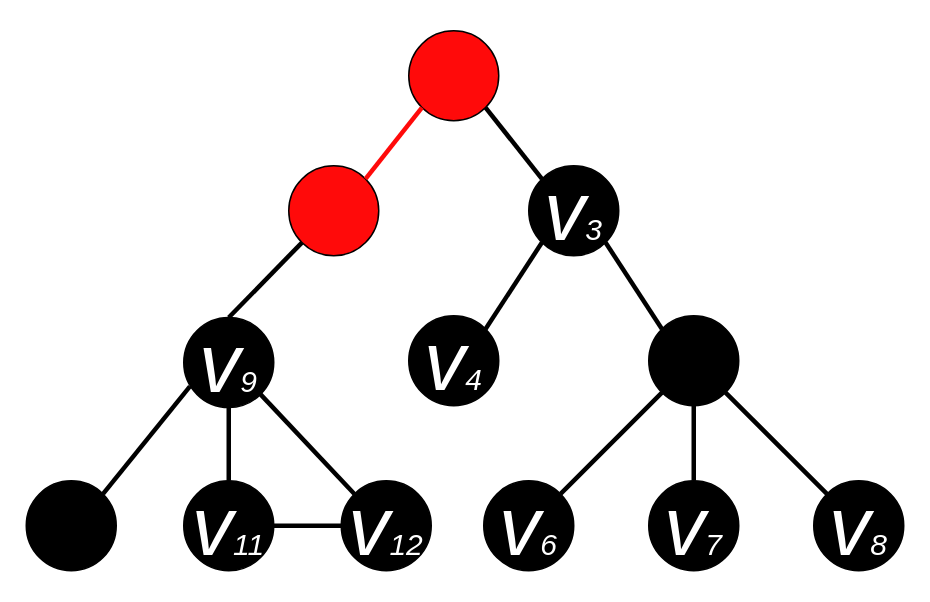
This 930x602 diagram has some shape labels left out. The box of each missing label's shape, as (x1, y1, x2, y2) in pixels:
v 1: (407, 29, 499, 121)
v 10: (25, 479, 116, 571)
v 2: (287, 164, 379, 256)
v 5: (647, 314, 739, 406)
